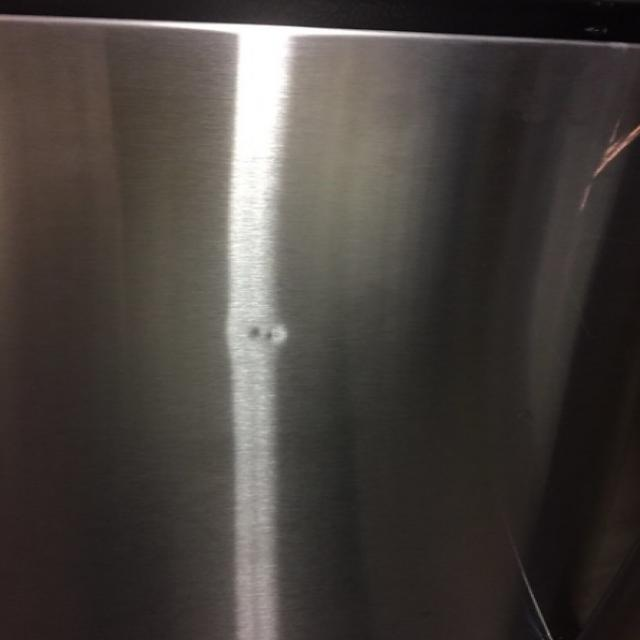dents: (228, 288, 310, 378)
